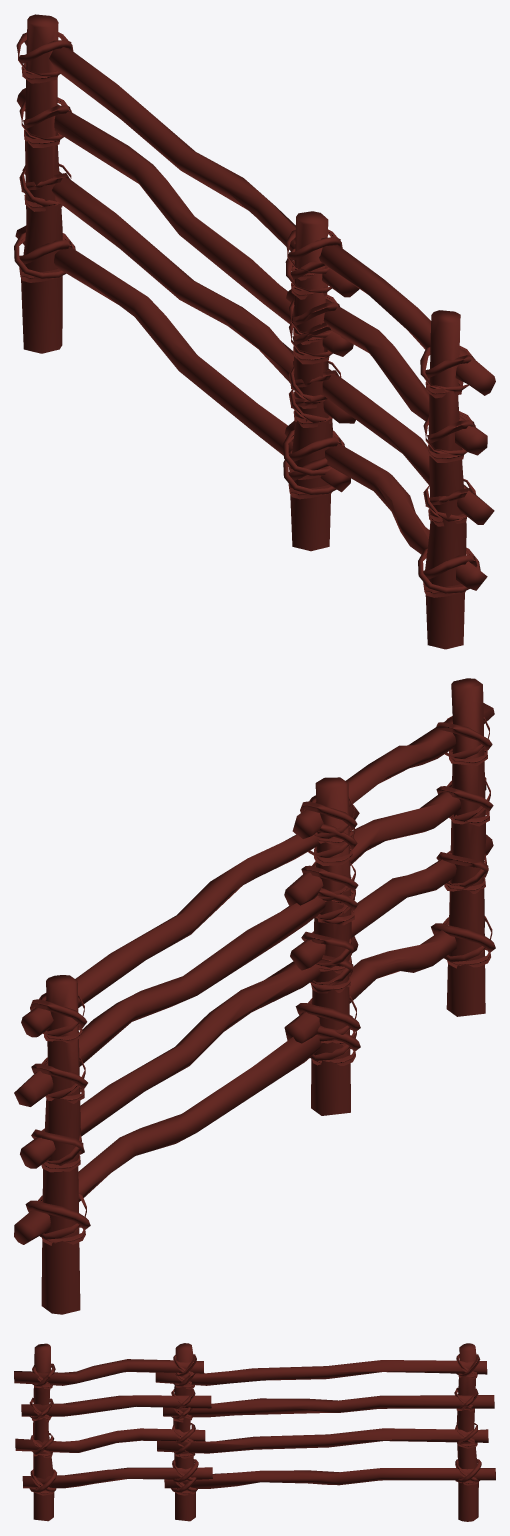
File: Wooden_ fence.glb
3 views of the same model, one above another, from view 1: azimuth 30°, elevation 25°; view 2: azimuth 150°, elevation 25°; view 3: azimuth 270°, elevation 25° (orthographic). The views are drawn at different scales.
Parts seen in each view (by area): view 1: Fence1.017, Fence1.018, Fence1.020; view 2: Fence1.017, Fence1.018, Fence1.020; view 3: Fence1.017, Fence1.018, Fence1.020.
Boxes of the visible parts, x1,y1,x2,y2 form: Fence1.017: (14,32,359,551); Fence1.018: (283,229,495,649); Fence1.020: (21,14,62,353); Fence1.017: (14,777,360,1245); Fence1.018: (284,678,495,1046); Fence1.020: (41,975,80,1314); Fence1.017: (155,1343,495,1521); Fence1.018: (14,1343,212,1521); Fence1.020: (456,1343,478,1521).
Size of the model in its own units: 0.2584 by 1.33 by 3.41.
